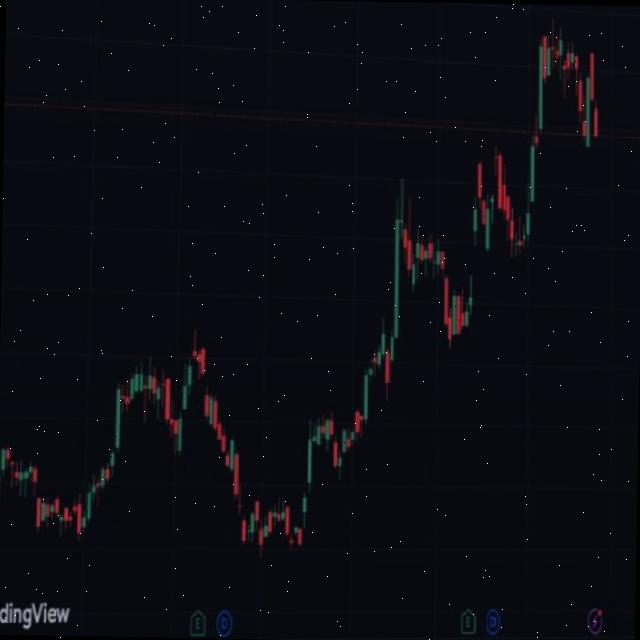Gap Down: (232, 452, 248, 542), (200, 345, 210, 417), (31, 464, 42, 528)
Gap Up: (524, 146, 538, 239), (468, 206, 477, 306), (302, 438, 312, 517), (177, 384, 187, 450), (298, 496, 307, 548)
